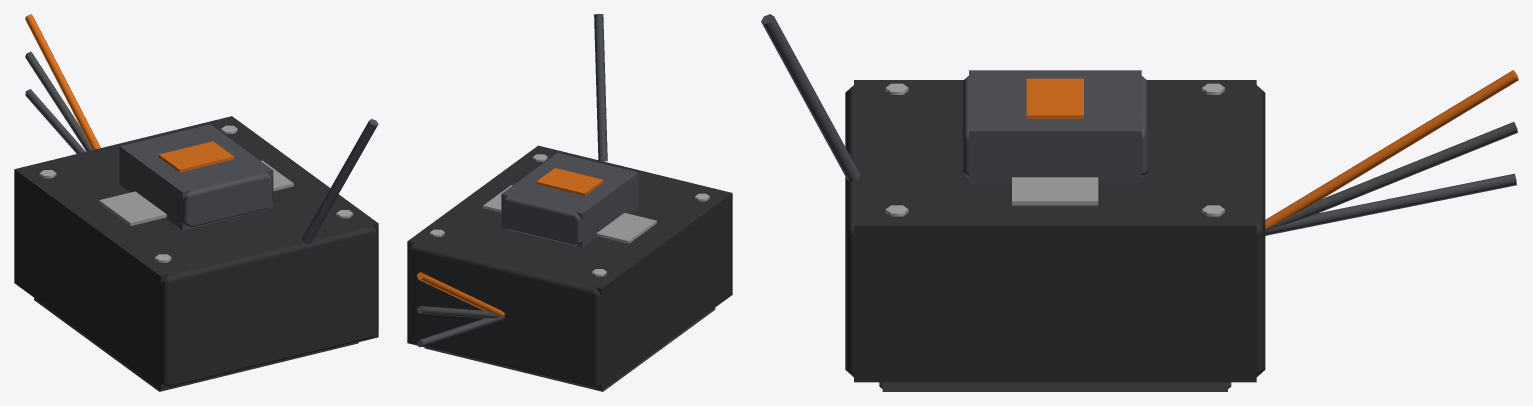
File: mn_remote.glb
3 renders of one model, left to right at view 1: azimuth 30°, elevation 25°; view 2: azimuth 150°, elevation 25°; view 3: azimuth 270°, elevation 25°, orthographic. The views are drawn at different scales.
Parts seen in each view (by area): view 1: L0, L1; view 2: L0, L1; view 3: L0, L1.
Part boxes in pixels (left/top/right/bottom): L0: left=14, top=14, right=378, bottom=390; L1: left=14, top=116, right=378, bottom=391; L0: left=407, top=14, right=732, bottom=390; L1: left=407, top=145, right=732, bottom=391; L0: left=761, top=14, right=1518, bottom=388; L1: left=854, top=70, right=1256, bottom=391.
Size of the model in its own units: 0.12 by 0.137 by 0.2635.
